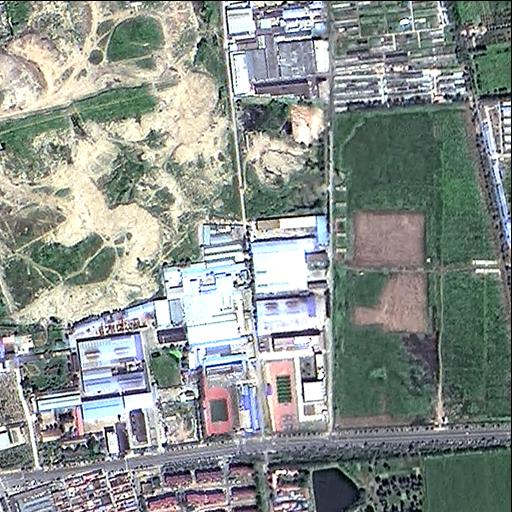school: (255, 325, 329, 436), (198, 358, 262, 443)
